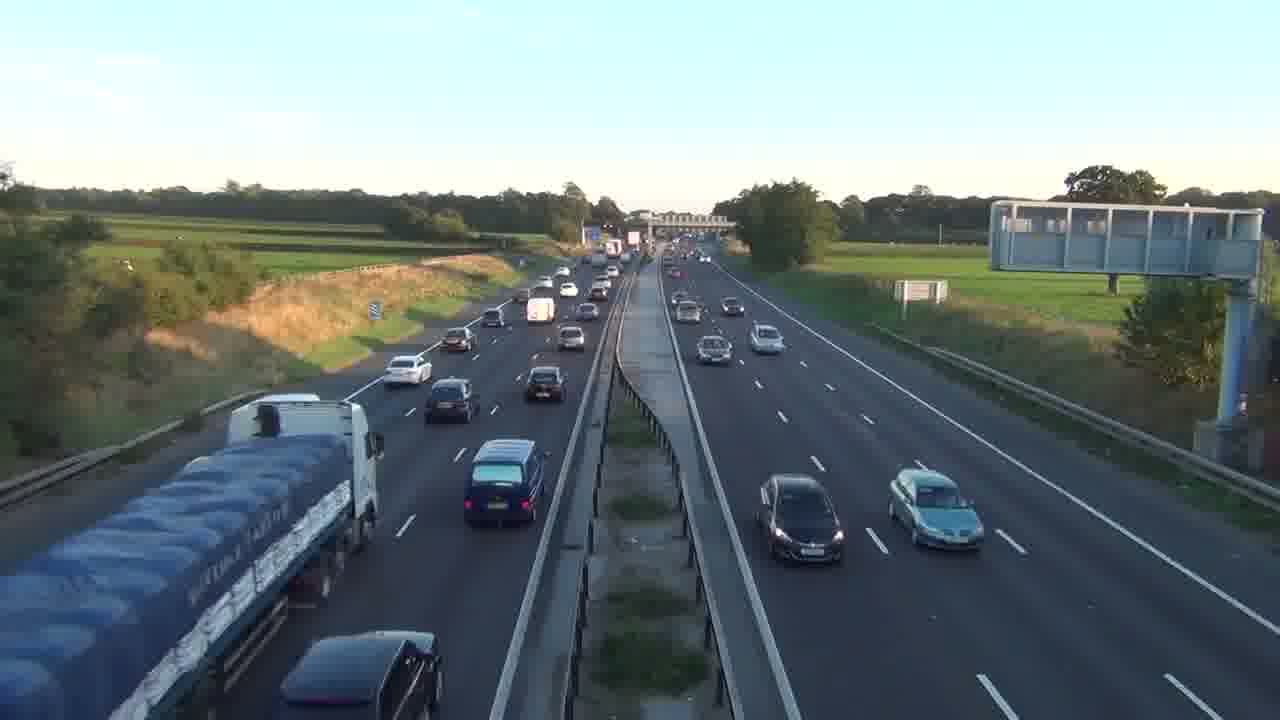car: (277, 628, 447, 716), (888, 460, 986, 551), (756, 473, 847, 565), (462, 438, 548, 527), (424, 376, 478, 424), (383, 354, 433, 385), (524, 366, 566, 402), (748, 323, 786, 356), (695, 335, 733, 365), (558, 325, 585, 351), (720, 297, 745, 316)
truck: (526, 296, 555, 324)
